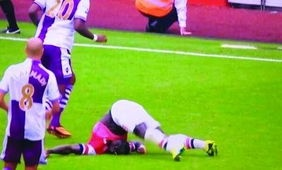falling: (39, 96, 220, 159)
